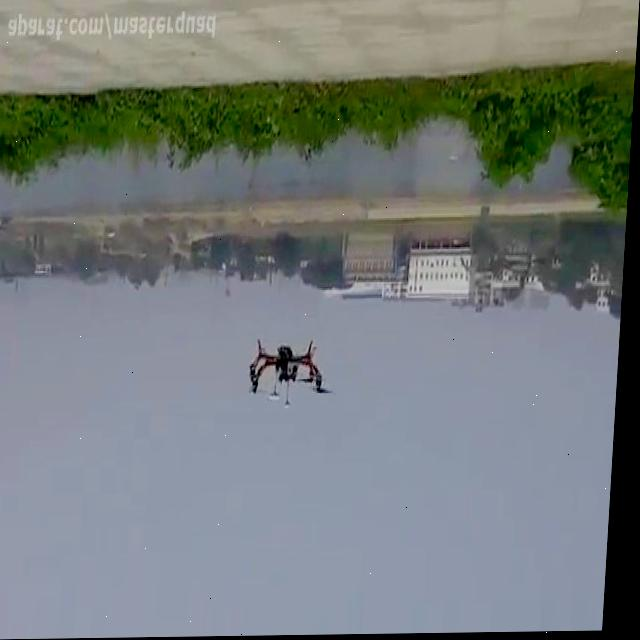drone: (245, 340, 345, 417)
